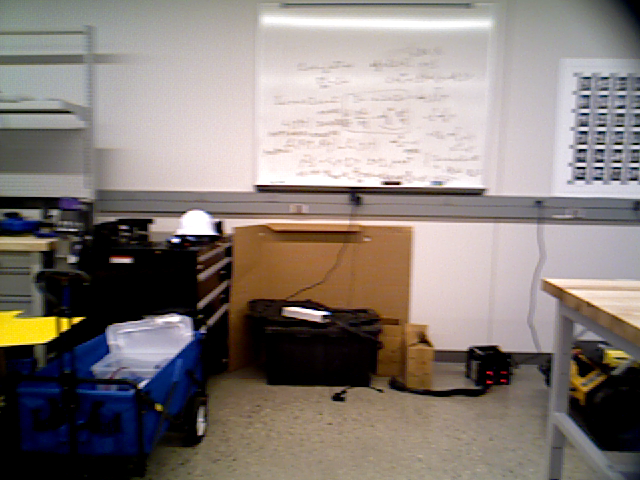painting4: (556, 56, 640, 198)
